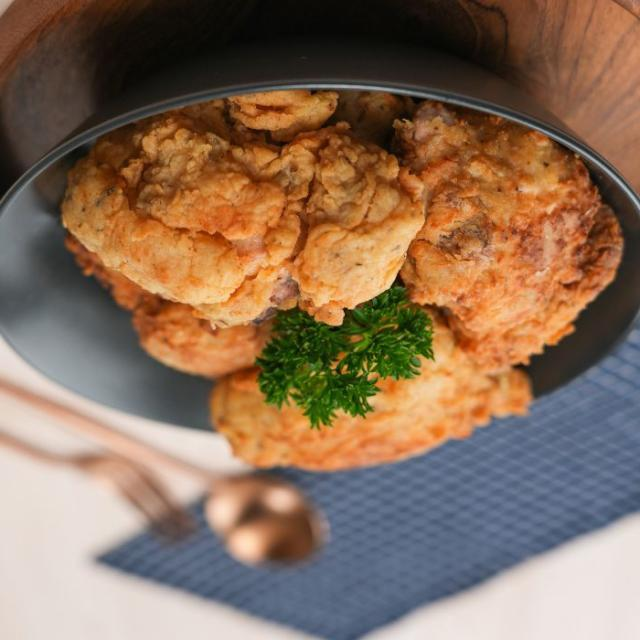ayam_goreng: (64, 84, 614, 471)
